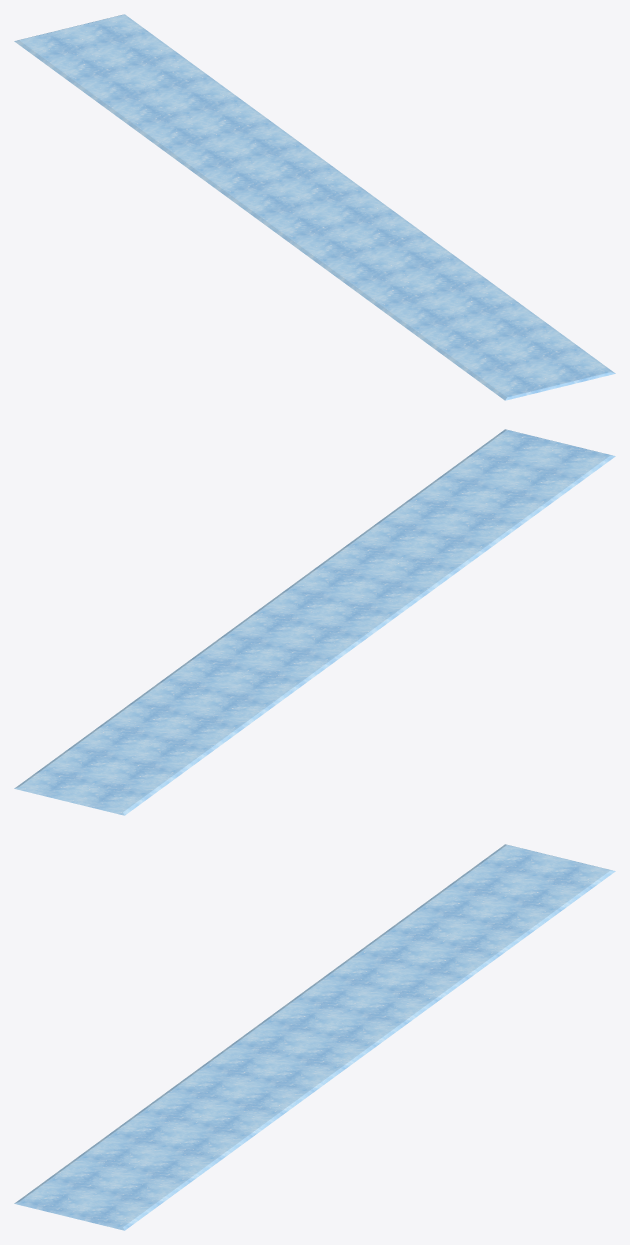
Rendered from Playground.glb.
3 renders of one model, top to bottom at view 1: azimuth 30°, elevation 25°; view 2: azimuth 150°, elevation 25°; view 3: azimuth 330°, elevation 25°, orthographic.
Visible parts, largest first — view 1: Playground; view 2: Playground; view 3: Playground.
Boxes of the visible parts, <box> form: Playground: <box>14,14,615,400</box>; Playground: <box>14,429,615,815</box>; Playground: <box>14,844,615,1230</box>.
Size of what is drawn, in the model's own units: 9.71 by 0.1145 by 74.59.
1 material, 1 textured.
